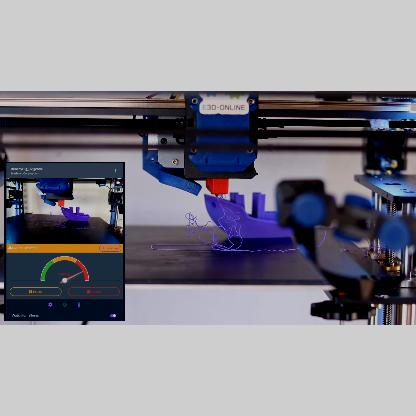fail: (179, 209, 247, 254)
